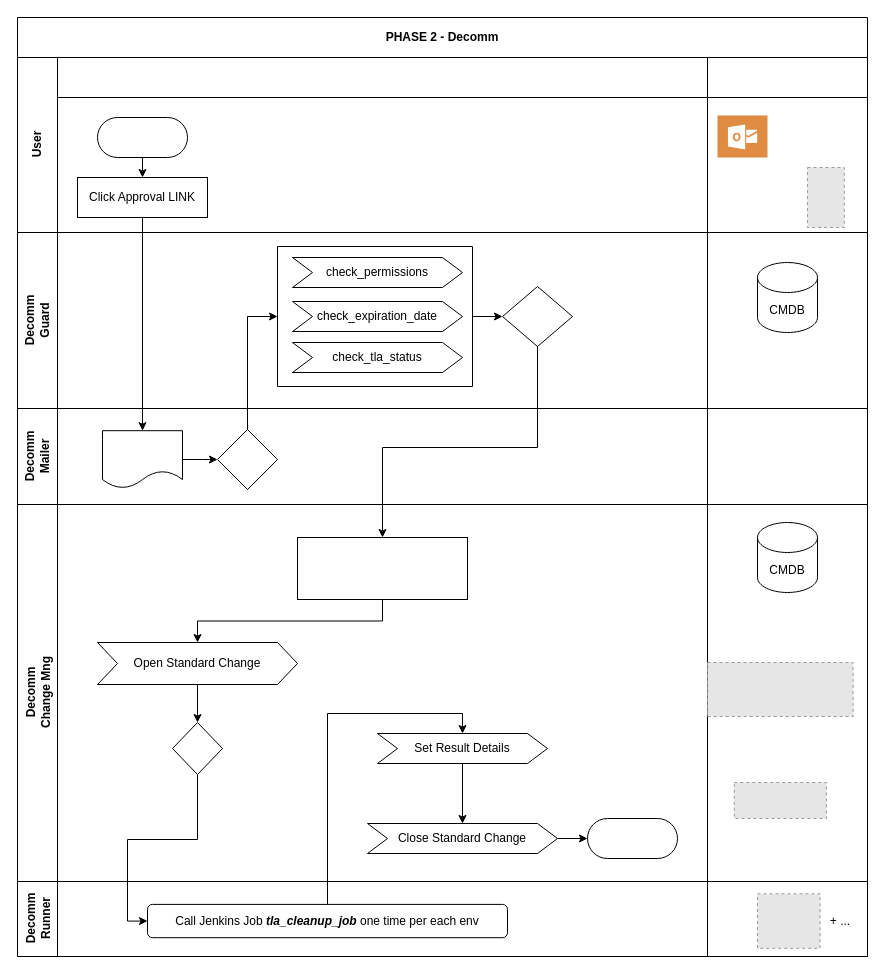
Image size: 885x974. Some labels were removed from this diagram. Grey dashed boxes stand in for pictures. The shapes that lost their labels are listed below. From the top down, each one's box as (x1, y1, x2, y2) in pixels, then its label:
(96, 116, 188, 158): Start
(56, 56, 708, 232): Jenkins
(706, 56, 868, 232): Services
(102, 430, 182, 488): Decrypt
(296, 536, 468, 600): Find TLA Owners / Participants
(586, 818, 678, 858): End
